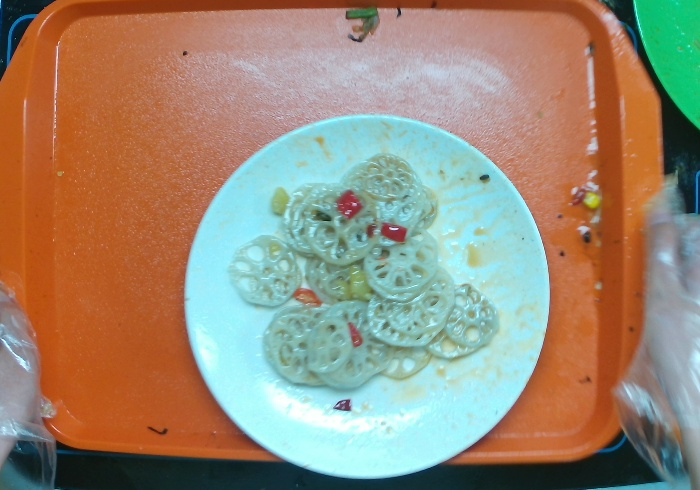HZYJPL-Bai_Se_Yuan_Pan: (179, 109, 555, 485)
